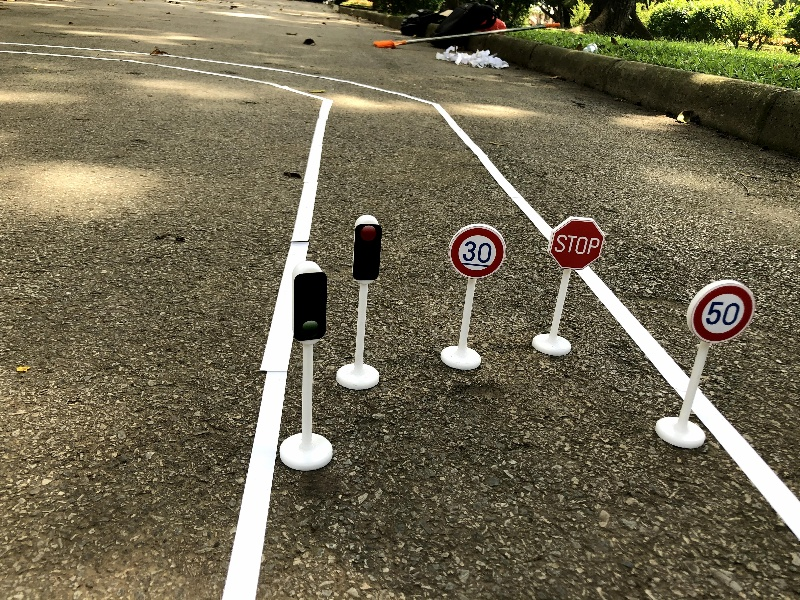Green: (278, 259, 336, 472)
Limit 30: (439, 223, 508, 372)
Limit 50: (653, 277, 755, 451)
Red: (334, 213, 384, 390)
Stop: (531, 215, 607, 355)
